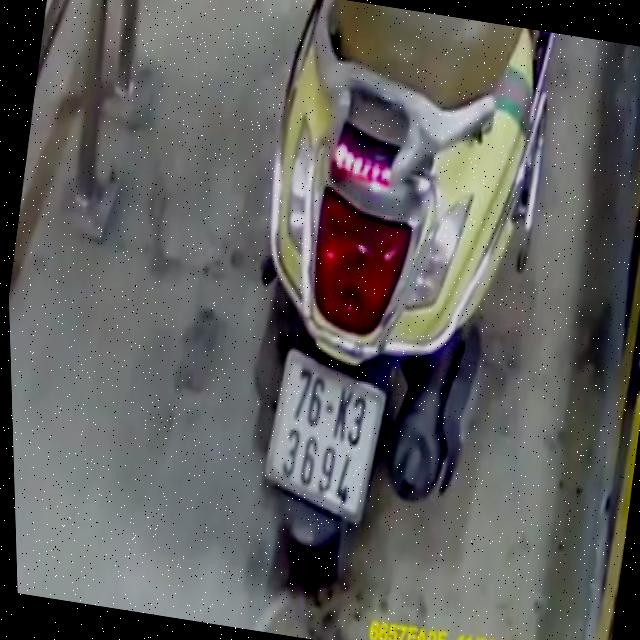motorcycle: (183, 0, 585, 614)
plate: (250, 345, 400, 529)
